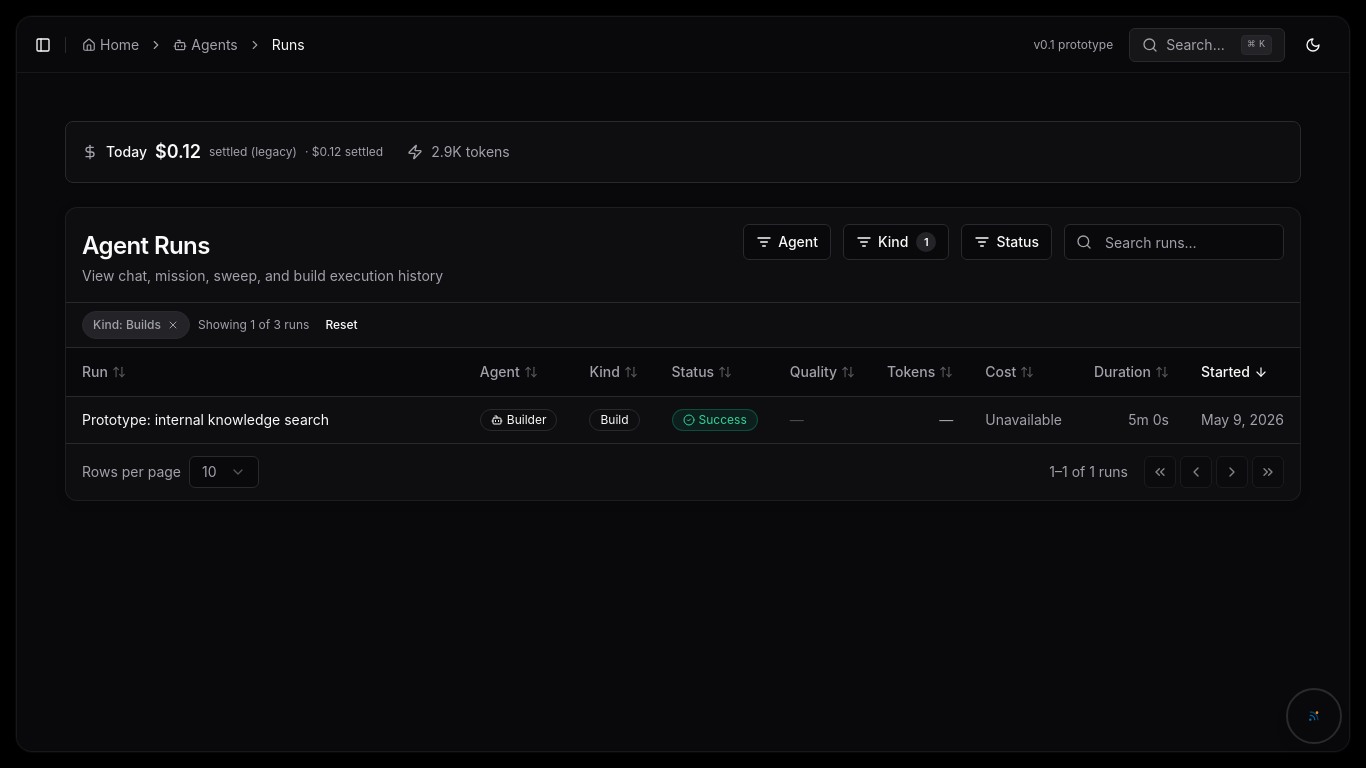
it: AgentRunsPage deep links (?tab=builds & ?build=<id>) › dismissing the "Kind: Builds" chip (deep-linked via ?tab=builds) reveals all rows again
The width and height of the screenshot is (1366, 768).
Click the button with test id "runs-filter-chip-kinds-build". click: (136, 325)
box: [82,311,190,339]
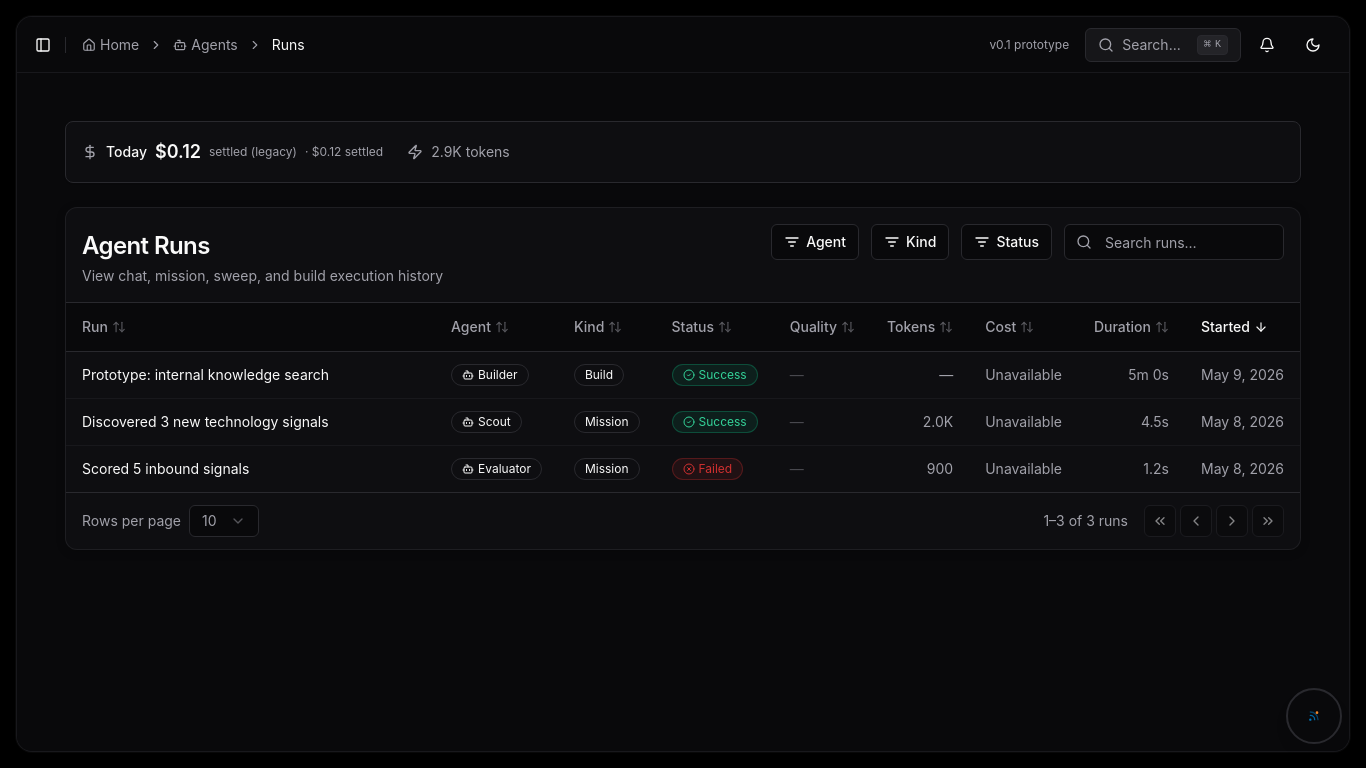
Expected: the button with test id "runs-filter-chip-kinds-build" is gone
Expected: the row with test id "run-row-run-1" is shown, [66,398,1300,445]
Expected: the row with test id "run-row-run-2" is shown, [66,445,1300,492]
